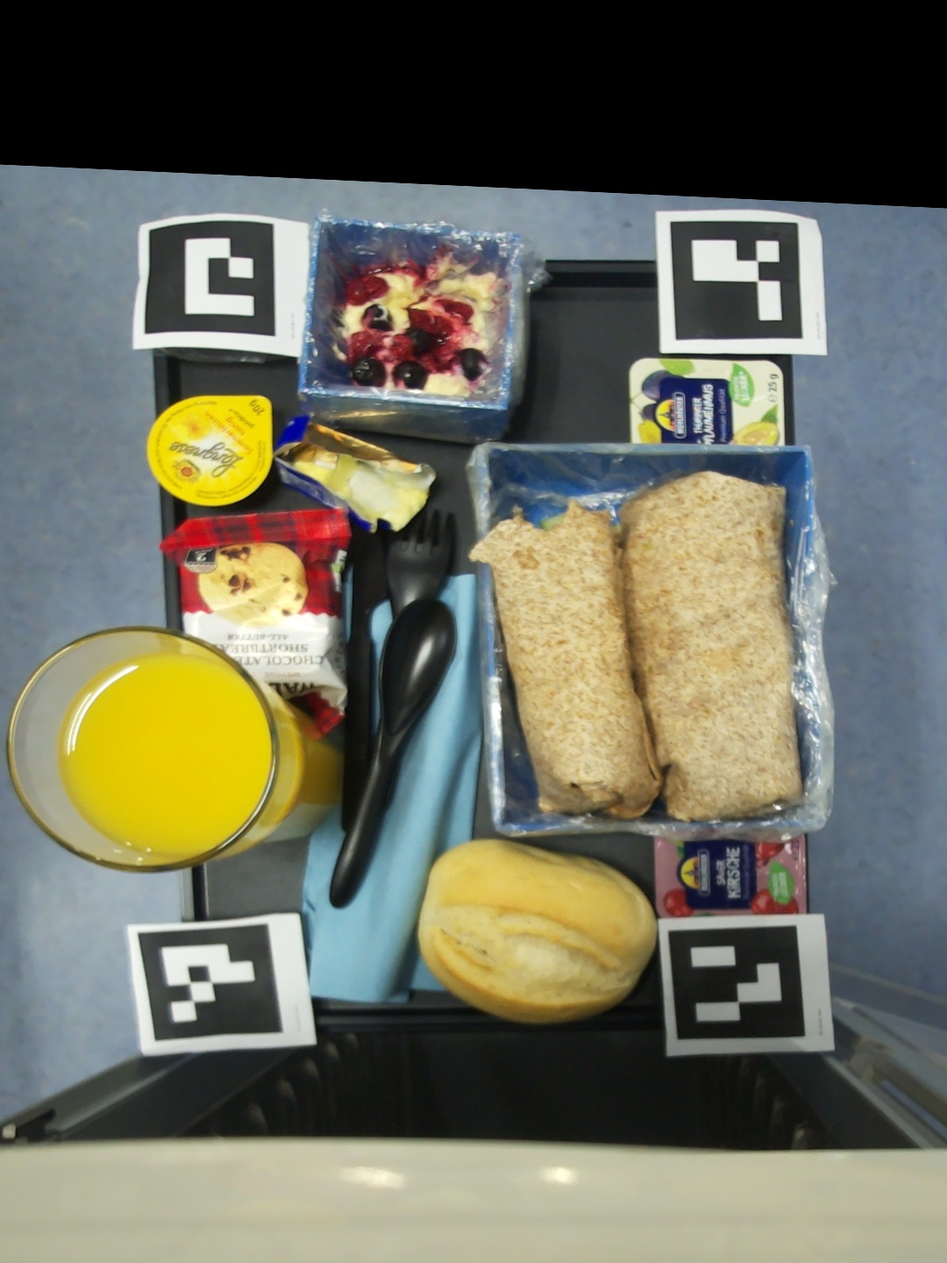bread_roll: (417, 839, 657, 1023)
butter: (273, 411, 436, 533)
cherry_jam: (655, 832, 806, 917)
cookie: (160, 508, 352, 740)
honey: (147, 396, 273, 507)
orange_juice_bottle: (7, 627, 346, 872)
plum_jam: (628, 357, 783, 445)
vanilla_pudding_with_fruits: (332, 241, 508, 396)
wrap_half_1: (467, 498, 664, 819)
wrap_half_2: (619, 471, 802, 822)
